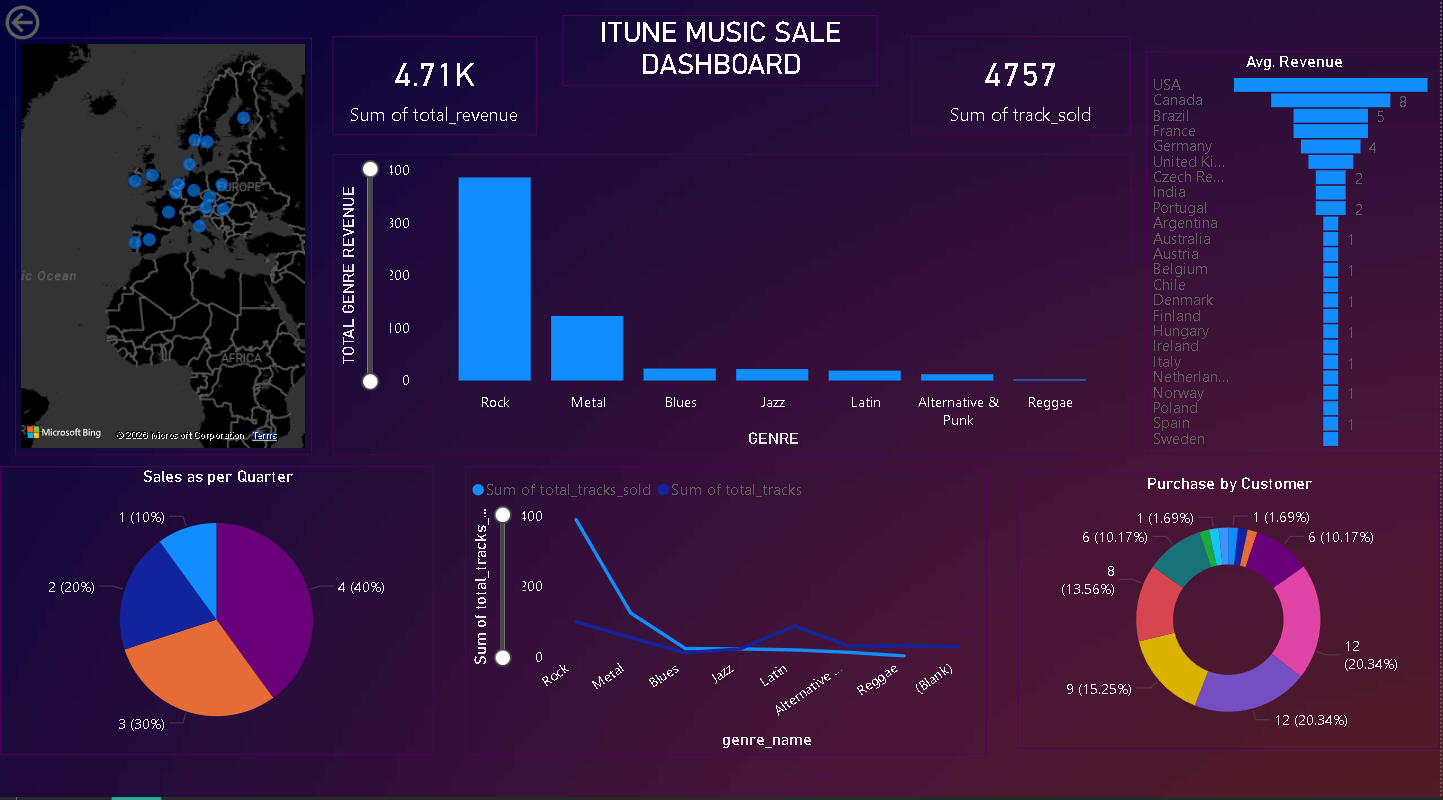

This screenshot's page, from the dashboard's own definition file:
{"tool":"powerbi","page":{"name":"Page 1","canvas":[1280,720],"ordinal":0},"visuals":[{"type":"textbox","title":"ITUNE MUSIC SALE DASHBOARD","box":[499.5,13.7,279.9,63.1],"z":0},{"type":"card","fields":{"Values":["Sum(total_revenue.total_revenue)"]},"box":[295.3,32.6,181.4,88.4],"z":1},{"type":"card","fields":{"Values":["Sum(track_sold.track_sold)"]},"box":[809.8,32.3,195.3,88.3],"z":2},{"type":"map","fields":{"Category":["avg_revenue_customer_country.country"],"Size":["Sum(CustomerTotal.total_spent)"]},"box":[12.9,32.9,264.3,371.4],"z":3},{"type":"lineStackedColumnComboChart","fields":{"Category":["genre_revenue.genre_name"],"Y":["Sum(genre_revenue.total_genre_revenue)"]},"box":[295.6,136.7,710,267.8],"z":4},{"type":"funnel","title":"Avg. Revenue","fields":{"Category":["avg_revenue_customer_country.country"],"Y":["Sum(avg_revenue_customer_country.total_customers)"]},"box":[1018.6,45.7,261.4,358.6],"z":5},{"type":"actionButton","box":[0,0,100,40],"z":6},{"type":"pieChart","title":"Sales as per Quarter","fields":{"Category":["totalsalesquater.quarter"],"Y":["Sum(totalsalesquater.quarter)"],"Series":["totalsalesquater.total_sales"]},"box":[0,414.4,385.6,256.7],"z":7},{"type":"donutChart","title":"Purchase by Customer","fields":{"Y":["Sum(purchasecount.customer_count)"],"Series":["purchasecount.purchase_count"]},"box":[904.4,420,375.6,245.6],"z":8},{"type":"lineChart","fields":{"Category":["genre_trackSold.genre_name"],"Y":["Sum(genre_trackSold.total_tracks_sold)","Sum(genre_totaltrack.total_tracks)"]},"box":[412.9,414.3,464.3,257.1],"z":9}]}

Visuals, with their boxes in screenshot pixels (x1, y1, x2, y2), scaled from the page's 1280x720 canvas onto the 1443x800 screenshot:
"ITUNE MUSIC SALE DASHBOARD" textbox: bbox(563, 15, 879, 85)
card - Sum(total_revenue.total_revenue): bbox(333, 36, 537, 134)
card - Sum(track_sold.track_sold): bbox(913, 36, 1133, 134)
map - avg_revenue_customer_country.country x Sum(CustomerTotal.total_spent): bbox(15, 37, 312, 449)
lineStackedColumnComboChart - genre_revenue.genre_name x Sum(genre_revenue.total_genre_revenue): bbox(333, 152, 1134, 449)
"Avg. Revenue" funnel: bbox(1148, 51, 1442, 449)
actionButton: bbox(0, 0, 113, 44)
"Sales as per Quarter" pieChart: bbox(0, 460, 435, 746)
"Purchase by Customer" donutChart: bbox(1020, 467, 1442, 740)
lineChart - genre_trackSold.genre_name x Sum(genre_trackSold.total_tracks_sold): bbox(465, 460, 989, 746)
